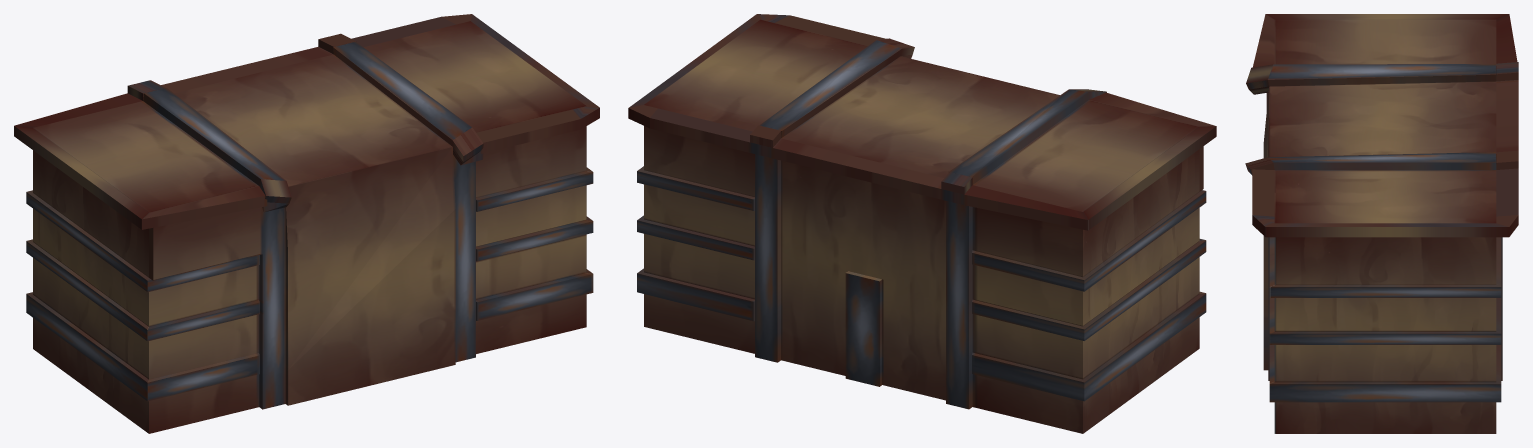
The model's file is Chest.fbx.
3 views of the same model, side by side, from view 1: azimuth 30°, elevation 25°; view 2: azimuth 150°, elevation 25°; view 3: azimuth 270°, elevation 25° (orthographic). The views are drawn at different scales.
Visible parts, largest first — view 1: Chest_2; view 2: Chest_2; view 3: Chest_2.
Boxes of the visible parts, <box> form: Chest_2: <box>14,14,599,433</box>; Chest_2: <box>628,14,1216,433</box>; Chest_2: <box>1245,14,1518,433</box>.
Size of the model in its own units: 117 by 55.68 by 63.28.
